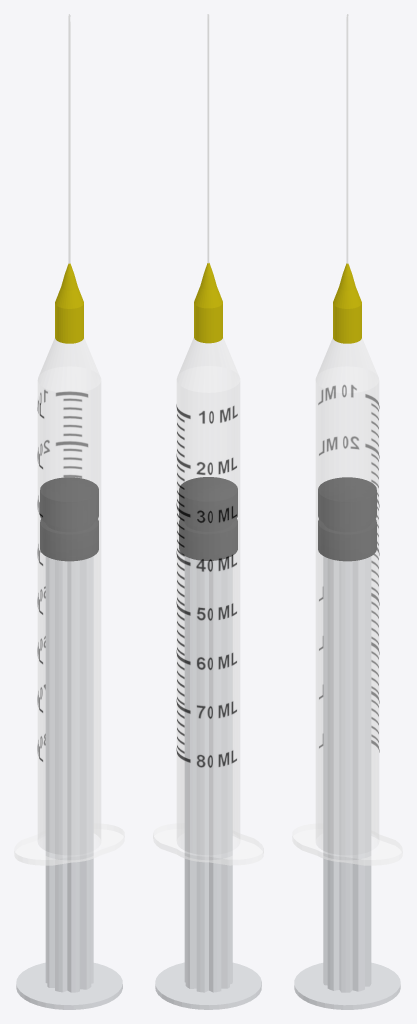
Rendered from seringue.glb.
3 renders of one model, left to right at view 1: azimuth 30°, elevation 25°; view 2: azimuth 150°, elevation 25°; view 3: azimuth 330°, elevation 25°, orthographic.
Parts seen in each view (by area): view 1: barrel_syringe_barrel_0, plunger_plunger_0, plunger_rubber_plunger_rubber_0, adapter_adapter_0, needle_needle_0; view 2: barrel_syringe_barrel_0, plunger_plunger_0, plunger_rubber_plunger_rubber_0, adapter_adapter_0, needle_needle_0; view 3: barrel_syringe_barrel_0, plunger_plunger_0, plunger_rubber_plunger_rubber_0, adapter_adapter_0, needle_needle_0.
Boxes of the visible parts, x1,y1,x2,y2 form: barrel_syringe_barrel_0: (14, 338, 124, 865); plunger_plunger_0: (16, 556, 122, 1009); plunger_rubber_plunger_rubber_0: (40, 477, 98, 561); adapter_adapter_0: (55, 263, 83, 343); needle_needle_0: (68, 14, 70, 263); barrel_syringe_barrel_0: (153, 337, 263, 865); plunger_plunger_0: (155, 556, 261, 1009); plunger_rubber_plunger_rubber_0: (179, 477, 237, 560); adapter_adapter_0: (194, 263, 222, 343); needle_needle_0: (207, 14, 209, 263); barrel_syringe_barrel_0: (292, 338, 402, 865); plunger_plunger_0: (294, 556, 400, 1009); plunger_rubber_plunger_rubber_0: (318, 477, 376, 561); adapter_adapter_0: (333, 263, 361, 343); needle_needle_0: (346, 14, 348, 263).
Bounding box in the file's own units: 0.0118 × 0.105 × 0.0104.
5 materials, 2 textured.
